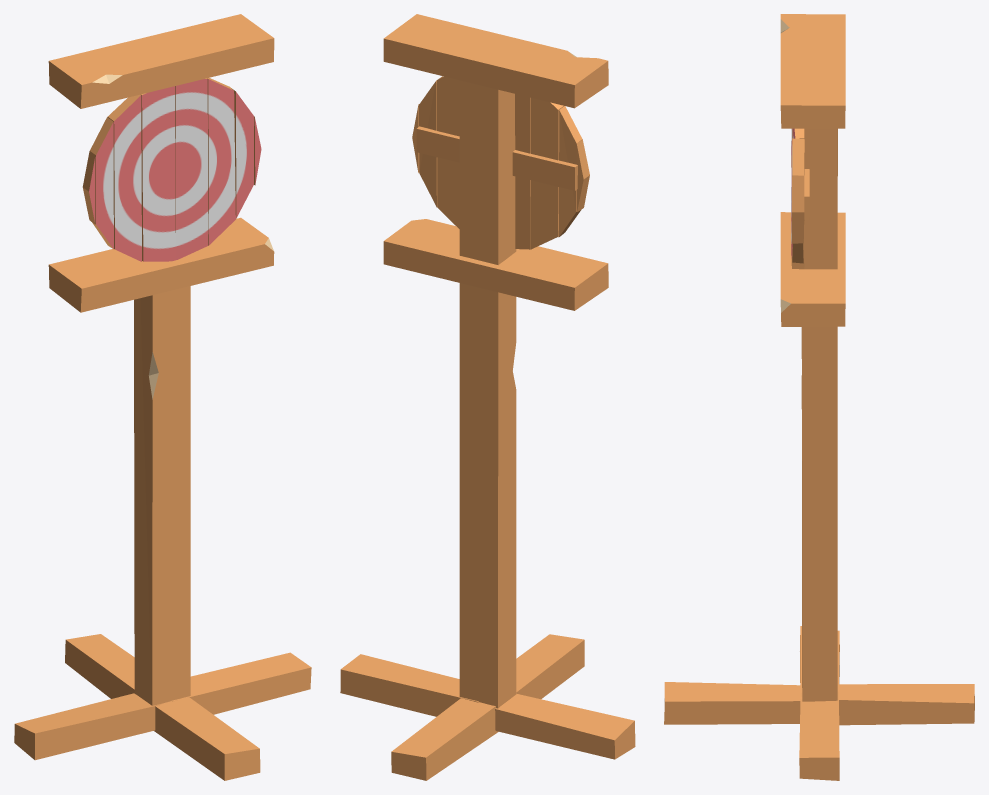
Rendered from archer_target_small.fbx.
3 renders of one model, left to right at view 1: azimuth 30°, elevation 25°; view 2: azimuth 150°, elevation 25°; view 3: azimuth 270°, elevation 25°, orthographic. The views are drawn at different scales.
Parts seen in each view (by area): view 1: archer_target_small; view 2: archer_target_small; view 3: archer_target_small.
Part boxes in pixels (x1,y1,x2,y2): archer_target_small: (14, 14, 311, 780); archer_target_small: (340, 14, 635, 780); archer_target_small: (664, 14, 974, 780).
Size of the model in its own units: 0.7236 by 1.69 by 0.7243.
